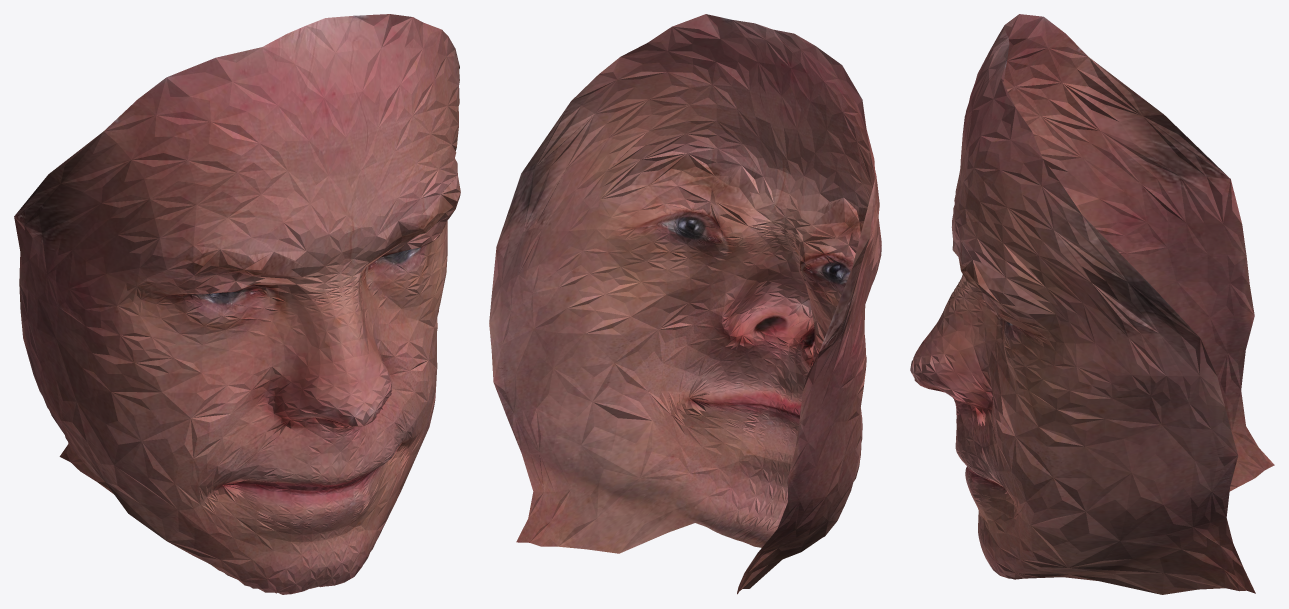
The model's file is M1000_N_conf.obj.
3 views of the same model, side by side, from view 1: azimuth 30°, elevation 25°; view 2: azimuth 150°, elevation 25°; view 3: azimuth 270°, elevation 25° (orthographic). The views are drawn at different scales.
Visible parts, largest first — view 1: Object0; view 2: Object0; view 3: Object0.
Boxes of the visible parts, <box> form: Object0: <box>14,14,460,594</box>; Object0: <box>489,14,881,594</box>; Object0: <box>910,14,1274,594</box>.
Bounding box in the file's own units: 149 × 207 × 130.
Materials: 1 (1 with a texture image).
